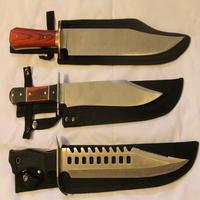knife: (7, 11, 200, 70), (9, 141, 194, 191), (8, 68, 171, 116)
